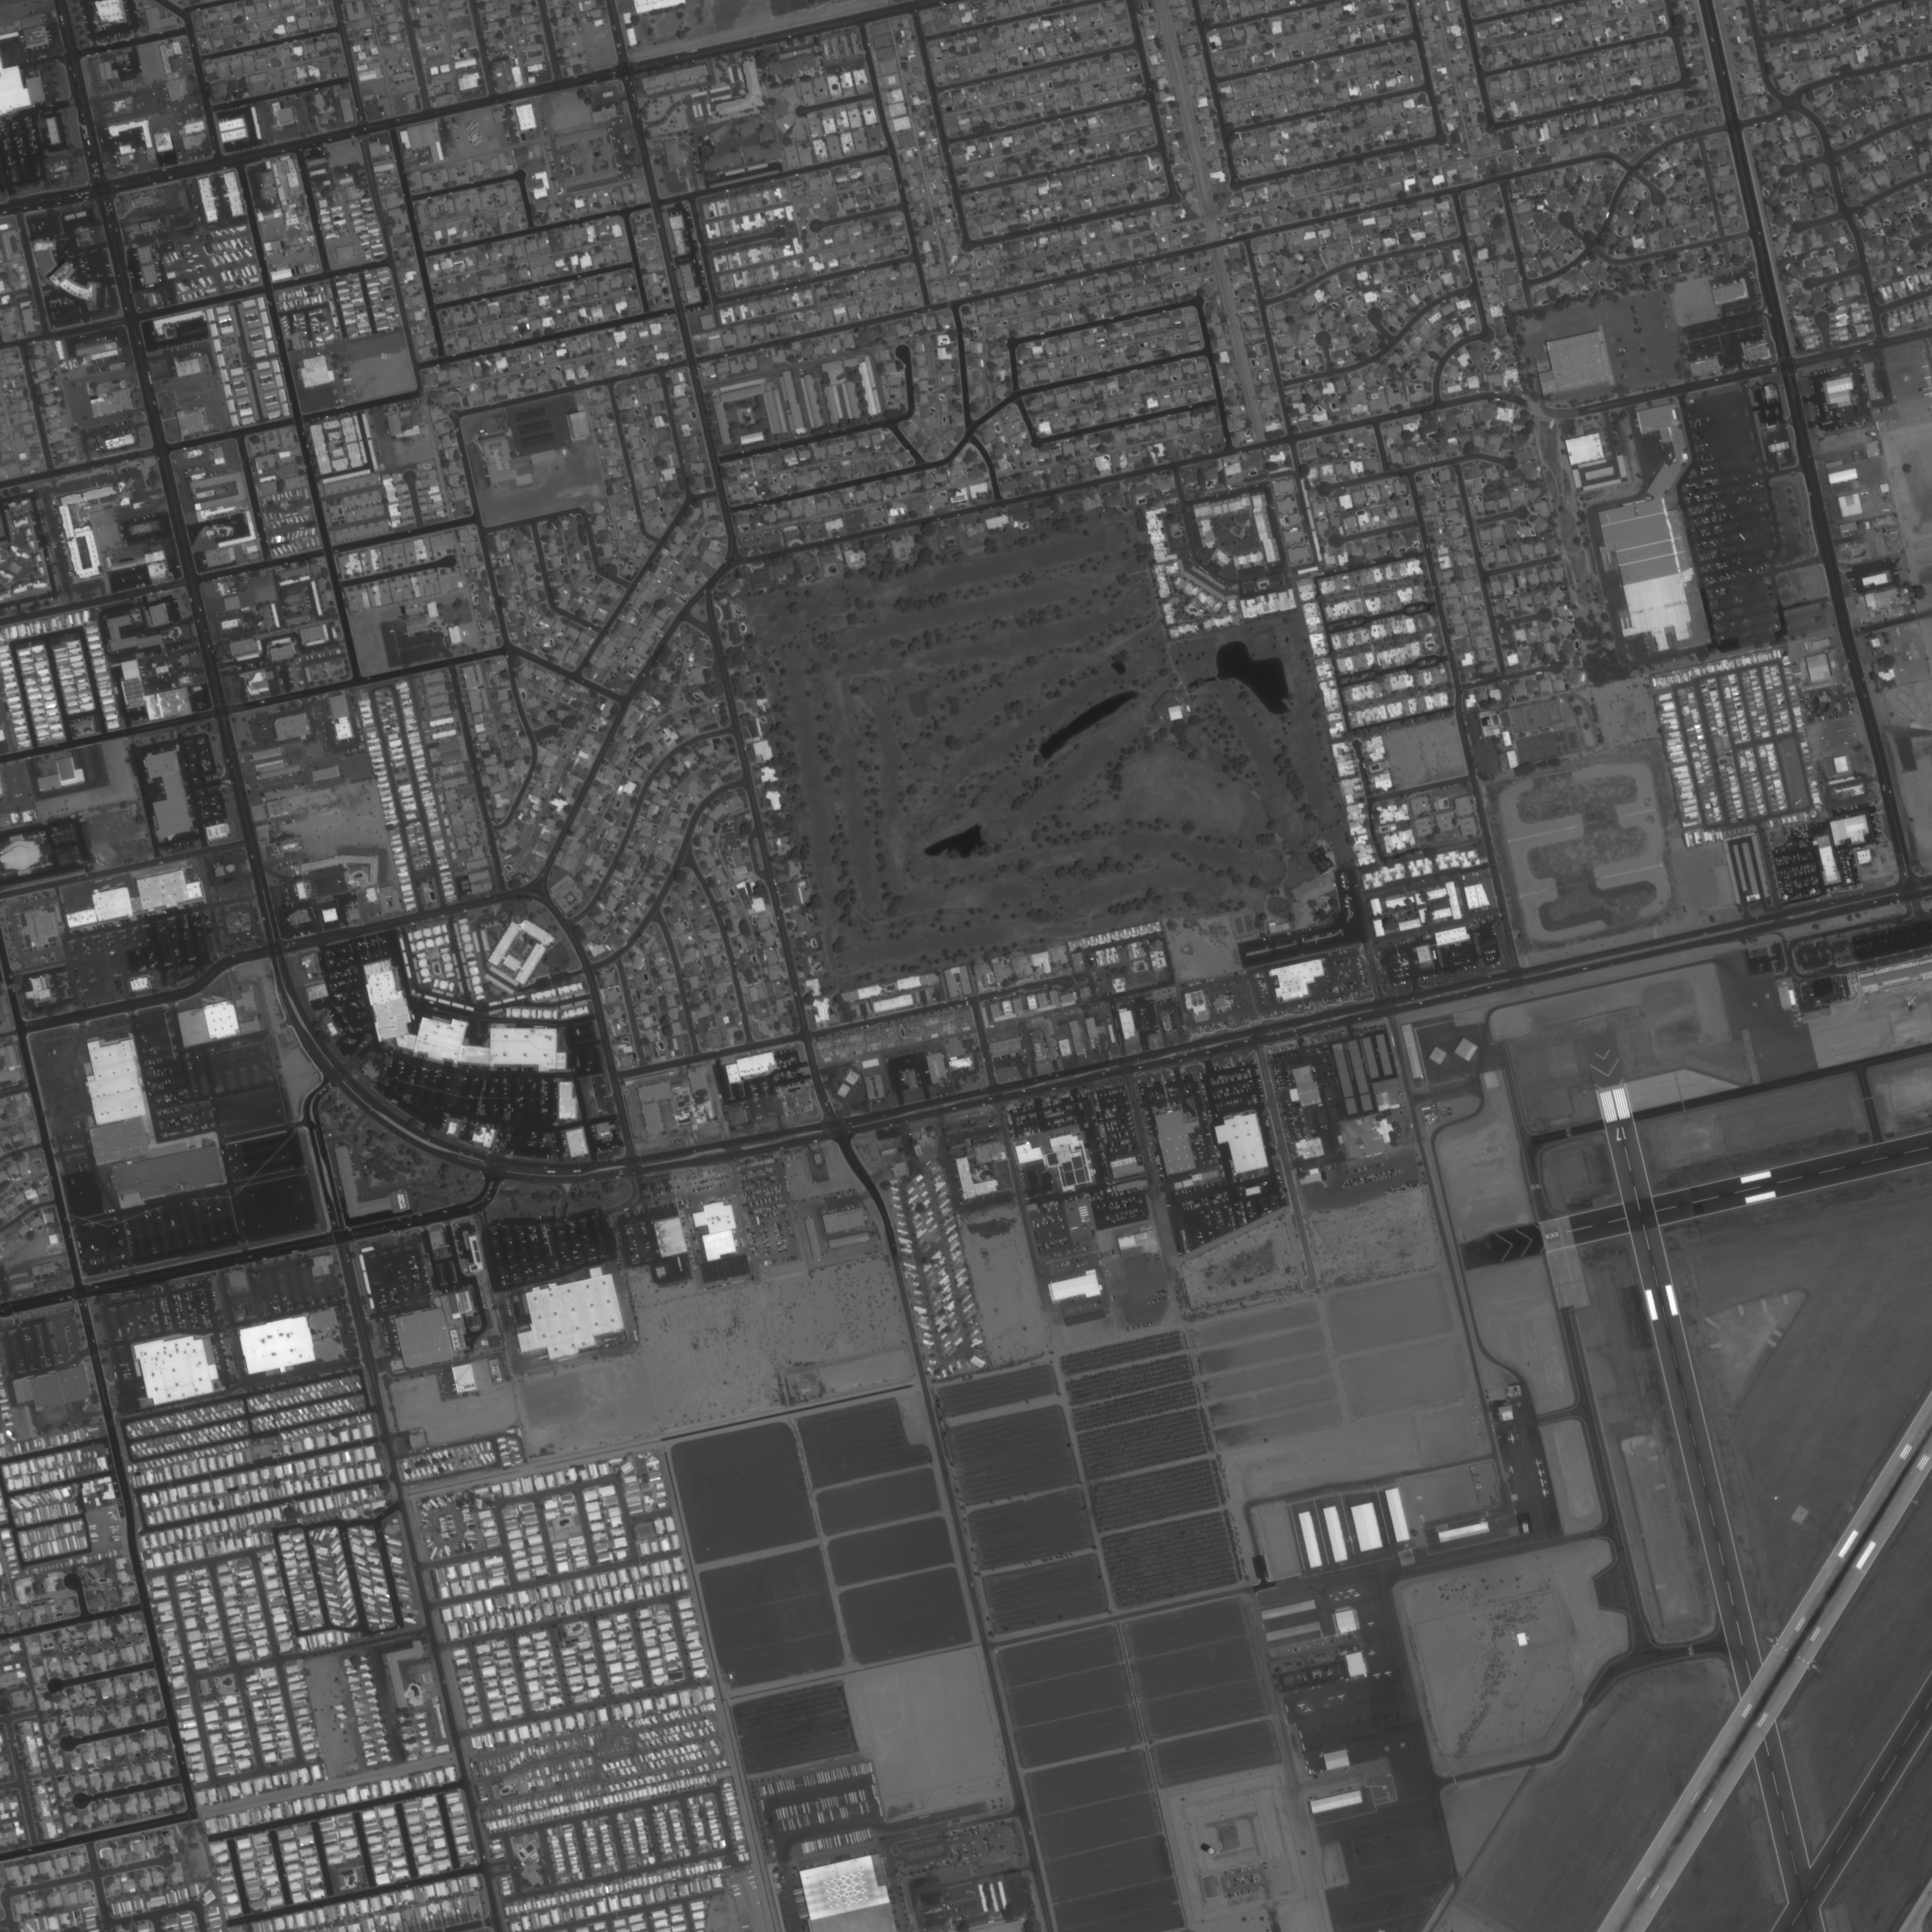plane: (1897, 987, 1923, 1016), (1504, 1430, 1518, 1445), (1382, 1663, 1394, 1679), (1532, 1456, 1545, 1470), (1371, 1668, 1384, 1683), (1364, 1645, 1378, 1658), (1364, 1617, 1376, 1629), (1539, 1486, 1552, 1499), (1506, 1463, 1516, 1476), (1334, 1691, 1346, 1702), (1537, 1477, 1548, 1488), (1536, 1467, 1546, 1477), (1302, 1706, 1313, 1714), (1327, 1695, 1336, 1704), (1297, 1702, 1306, 1711), (1346, 1587, 1355, 1596), (1352, 1592, 1362, 1599), (1338, 1591, 1345, 1598), (1334, 1596, 1341, 1603), (1343, 1594, 1352, 1599)
